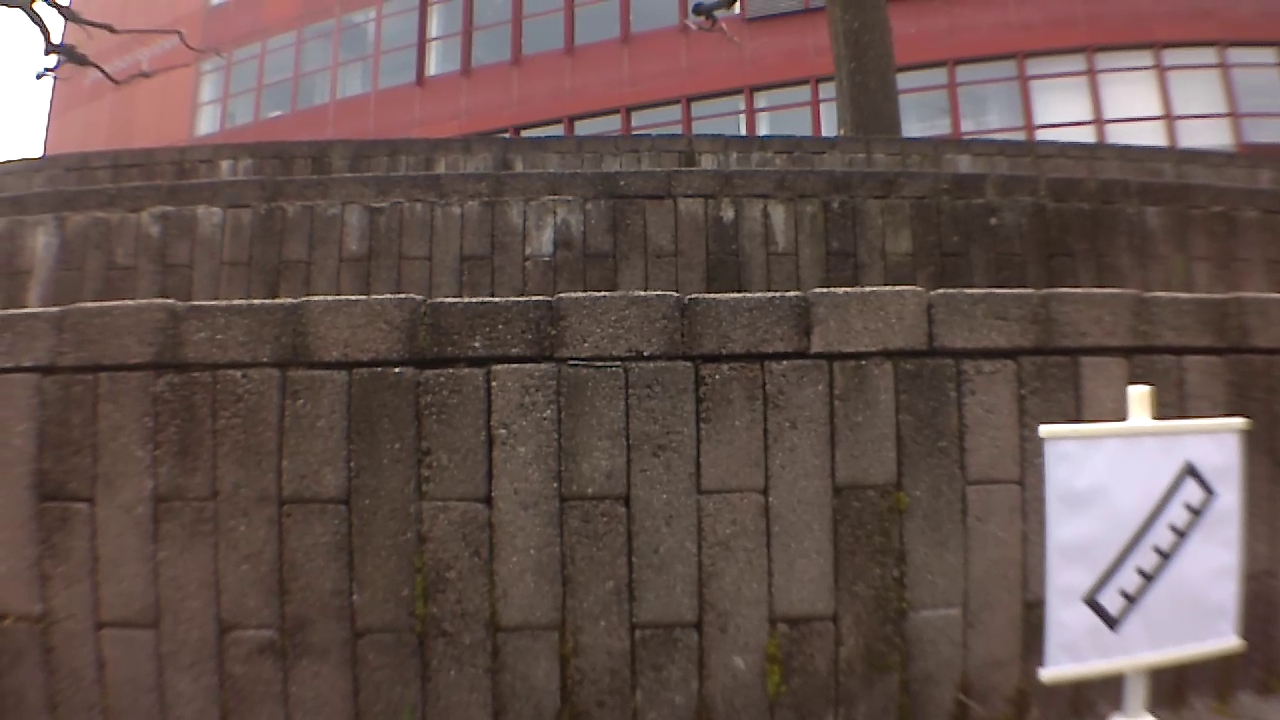ruler: (1081, 458, 1224, 636)
